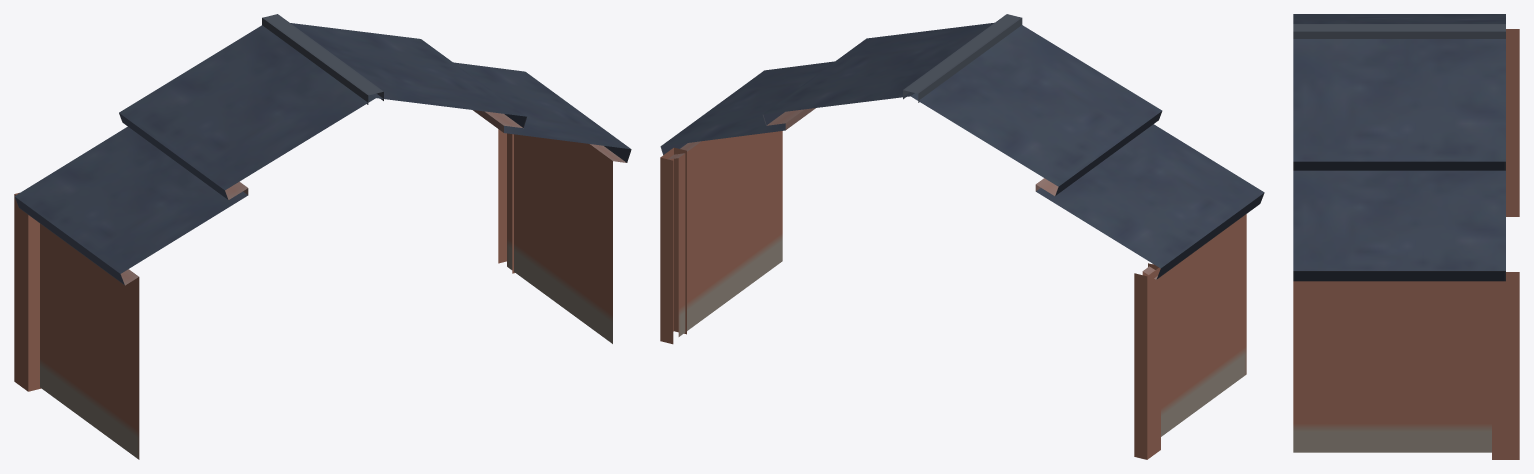
The model's file is Universal_Building_Warehouse_L2_02_Mod.fbx.
3 renders of one model, left to right at view 1: azimuth 30°, elevation 25°; view 2: azimuth 150°, elevation 25°; view 3: azimuth 270°, elevation 25°, orthographic. The views are drawn at different scales.
Parts seen in each view (by area): view 1: Universal_Building_Warehouse_L2_02_Mod; view 2: Universal_Building_Warehouse_L2_02_Mod; view 3: Universal_Building_Warehouse_L2_02_Mod.
Part boxes in pixels (x1,y1,x2,y2): Universal_Building_Warehouse_L2_02_Mod: (14,14,631,459); Universal_Building_Warehouse_L2_02_Mod: (660,14,1264,459); Universal_Building_Warehouse_L2_02_Mod: (1293,14,1519,459).
Bounding box in the file's own units: 1112 × 645 × 426.
